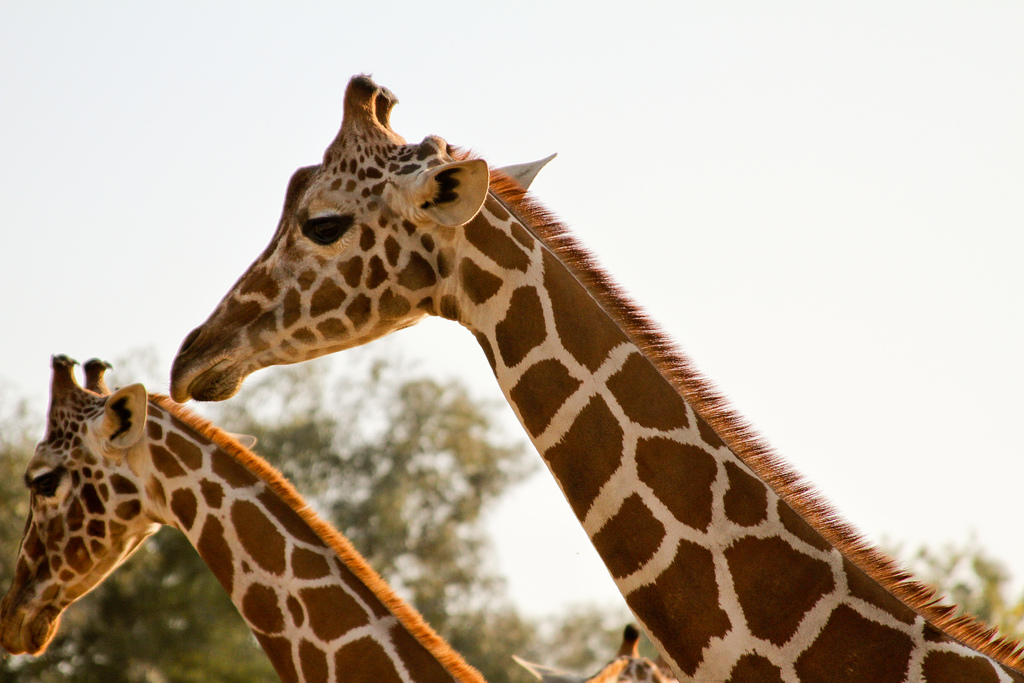giraffe: (178, 88, 926, 624), (30, 368, 442, 683)
